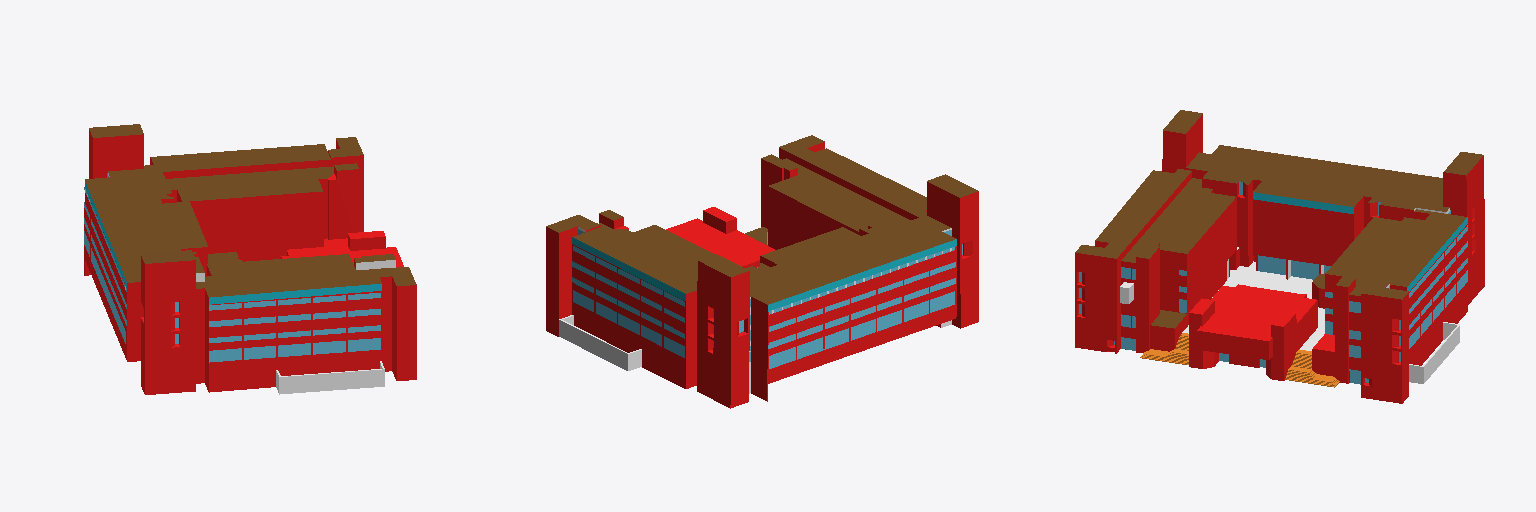
Rendered from Meyerhoff.obj.
The picture shows the model from 3 angles: view 1: azimuth 30°, elevation 25°; view 2: azimuth 150°, elevation 25°; view 3: azimuth 270°, elevation 25°; orthographic projection.
Parts seen in each view (by area): view 1: SM_ChemBldg, SM_ChemWndws; view 2: SM_ChemBldg, SM_ChemWndws; view 3: SM_ChemBldg, SM_ChemWndws, SM_ChemStairs.
Boxes of the visible parts, box(x1,y1,x2,y2) form: SM_ChemBldg: box(84, 124, 416, 394); SM_ChemWndws: box(84, 173, 380, 362); SM_ChemBldg: box(546, 135, 978, 408); SM_ChemWndws: box(572, 229, 962, 368); SM_ChemBldg: box(1075, 110, 1484, 403); SM_ChemWndws: box(1079, 181, 1467, 384); SM_ChemStairs: box(1140, 261, 1339, 387).
Bounding box in the file's own units: 7704 × 3165 × 8483.